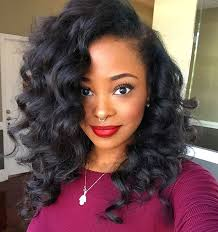black_female: (44, 8, 172, 153)
